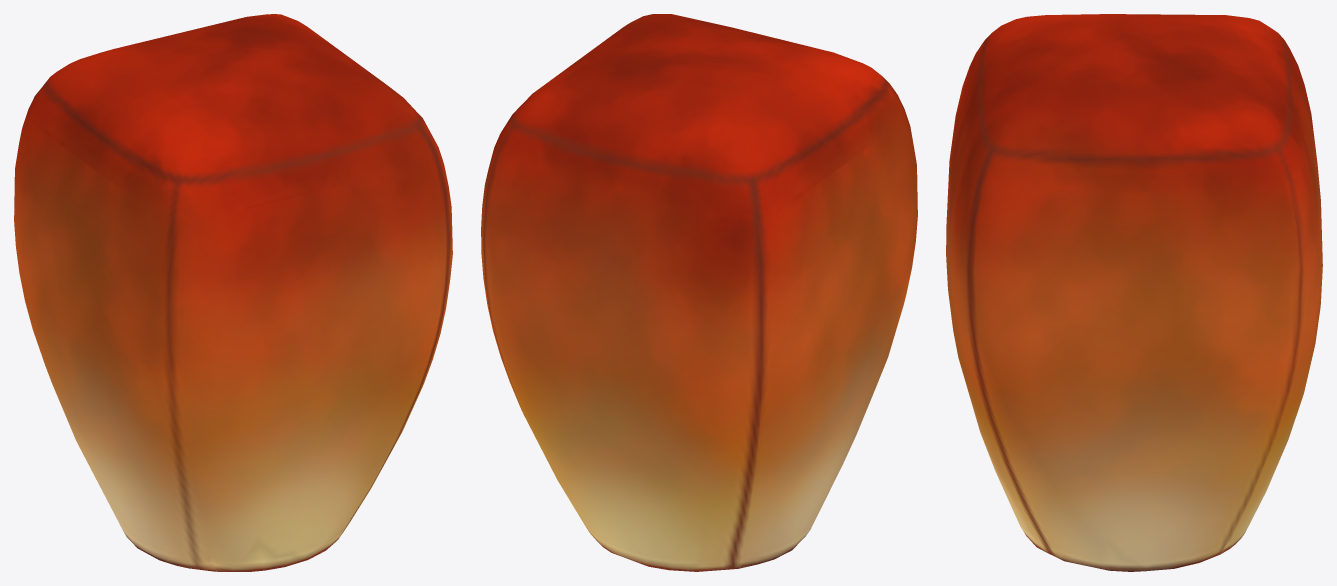
Rendered from sky_lantern_clean.glb.
The picture shows the model from 3 angles, left to right: view 1: azimuth 30°, elevation 25°; view 2: azimuth 150°, elevation 25°; view 3: azimuth 270°, elevation 25°; orthographic projection. The views are drawn at different scales.
Visible parts, largest first — view 1: light2; view 2: light2; view 3: light2.
Boxes of the visible parts, x1,y1,x2,y2 form: light2: (14,14,452,571); light2: (481,14,917,571); light2: (946,14,1322,571).
Bounding box in the file's own units: 2.57 × 3.63 × 2.58.
1 material, 1 textured.
